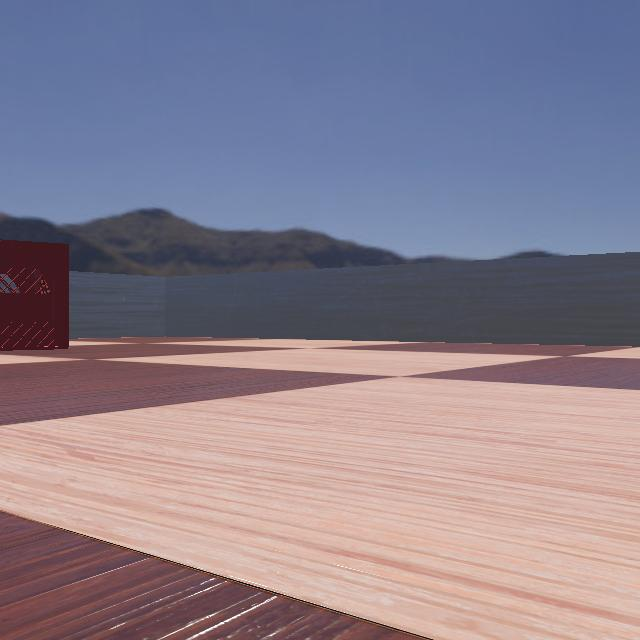plastic-crate: (0, 234, 94, 352)
